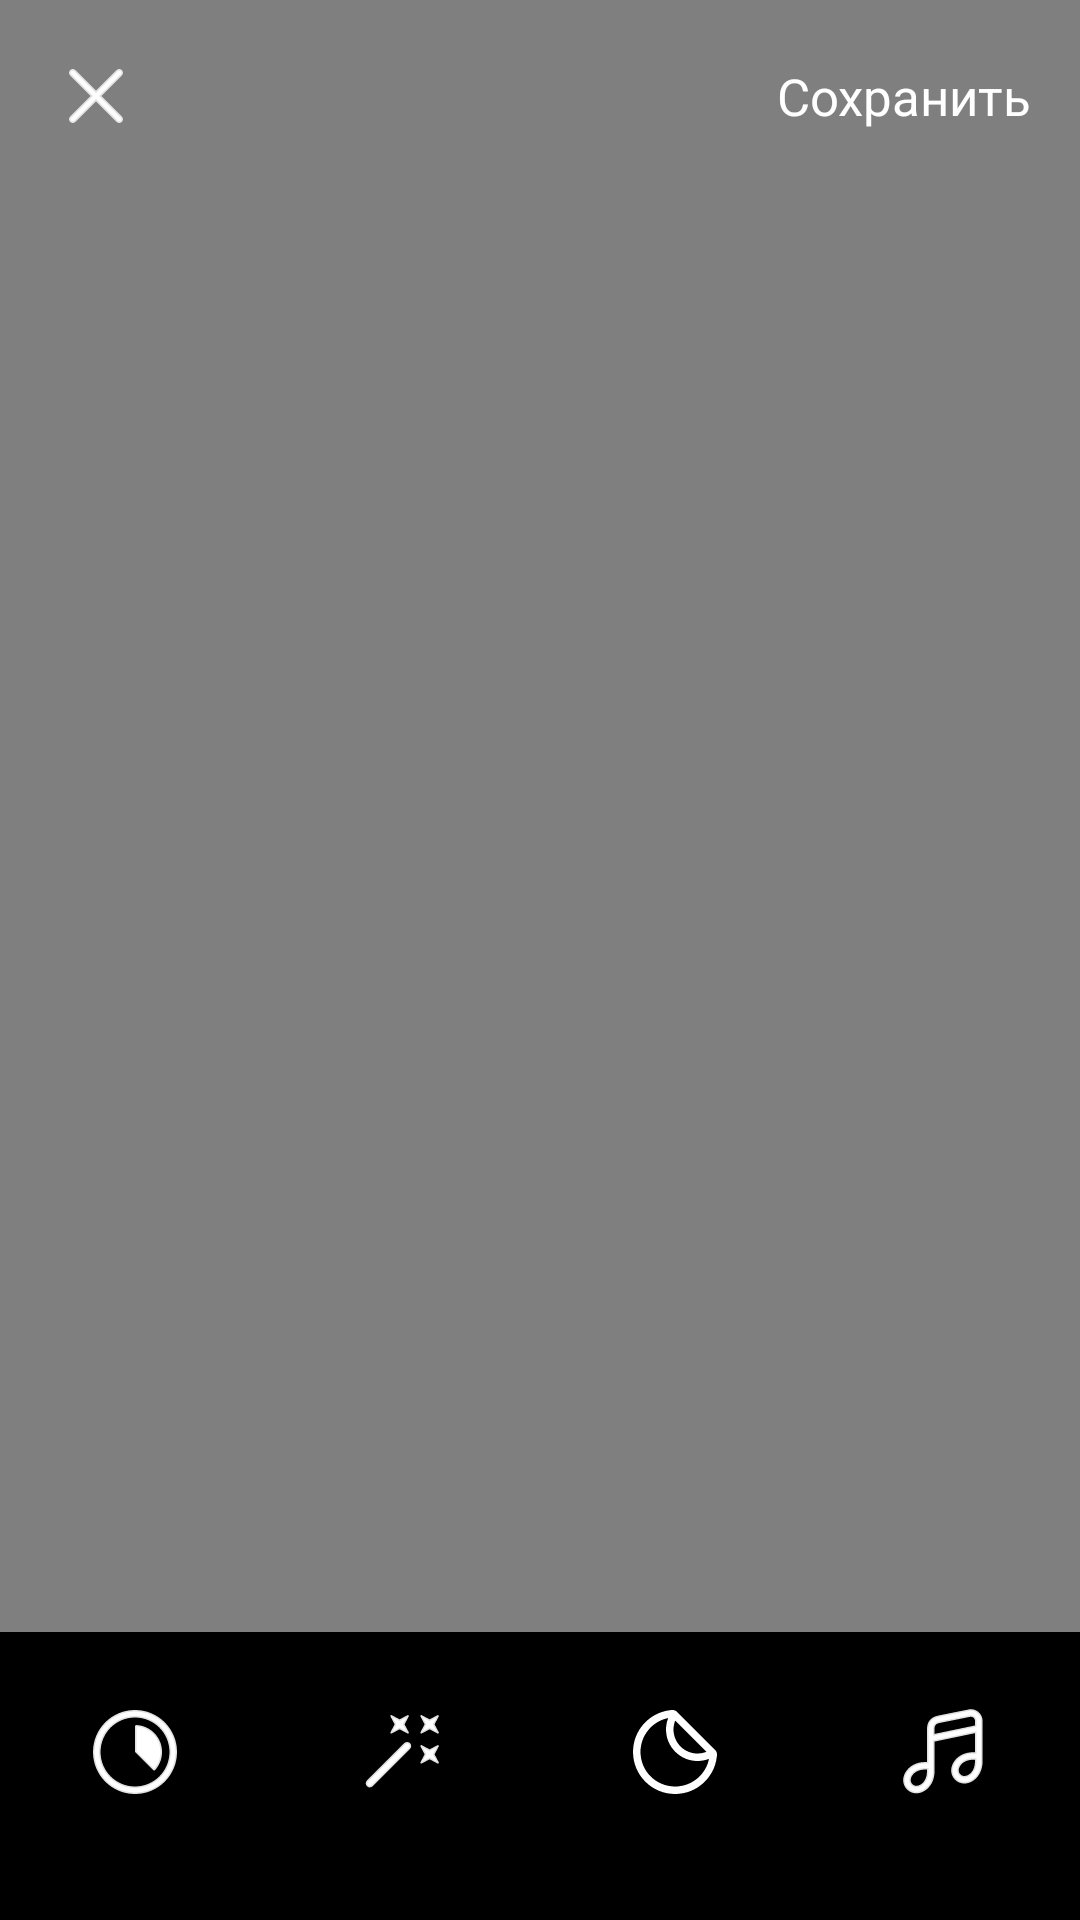

Icons on this 1080 × 1920 Android screen, each with its box as [x1, y1, x2, y2]:
close: [69, 69, 123, 123]
